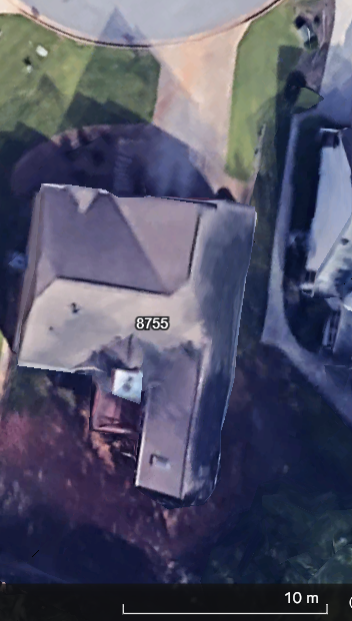driveway: (146, 26, 249, 204)
